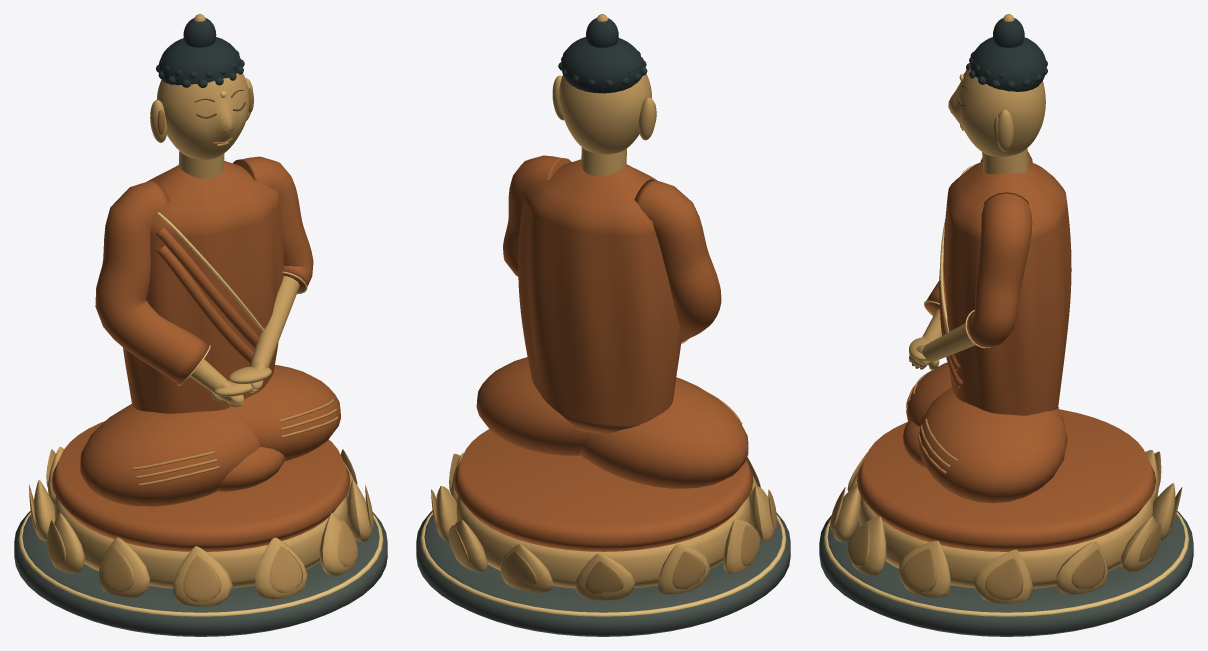
Rendered from buddha.glb.
The picture shows the model from 3 angles, left to right: view 1: azimuth 30°, elevation 25°; view 2: azimuth 150°, elevation 25°; view 3: azimuth 270°, elevation 25°; orthographic projection.
Parts seen in each view (by area): view 1: buddha_SaffronDrapery, buddha_AntiqueGold, buddha_CarvedPlinth, buddha_GoldPetalRelief, buddha_BlueBlackCurls, buddha_RaisedGoldBorders, buddha_DraperyFoldHighlights; view 2: buddha_SaffronDrapery, buddha_AntiqueGold, buddha_CarvedPlinth, buddha_BlueBlackCurls, buddha_GoldPetalRelief, buddha_RaisedGoldBorders; view 3: buddha_SaffronDrapery, buddha_AntiqueGold, buddha_CarvedPlinth, buddha_GoldPetalRelief, buddha_BlueBlackCurls, buddha_RaisedGoldBorders, buddha_DraperyFoldHighlights.
Part boxes in pixels (<box>): buddha_SaffronDrapery: <box>51,156,350,551</box>; buddha_AntiqueGold: <box>33,14,371,606</box>; buddha_CarvedPlinth: <box>14,506,387,636</box>; buddha_GoldPetalRelief: <box>29,449,373,601</box>; buddha_BlueBlackCurls: <box>156,18,244,87</box>; buddha_RaisedGoldBorders: <box>18,91,383,616</box>; buddha_DraperyFoldHighlights: <box>132,399,338,486</box>; buddha_SaffronDrapery: <box>453,155,753,551</box>; buddha_AntiqueGold: <box>436,14,774,600</box>; buddha_CarvedPlinth: <box>416,510,790,636</box>; buddha_BlueBlackCurls: <box>558,18,647,93</box>; buddha_GoldPetalRelief: <box>431,453,776,593</box>; buddha_RaisedGoldBorders: <box>420,339,786,616</box>; buddha_SaffronDrapery: <box>857,151,1155,551</box>; buddha_AntiqueGold: <box>832,14,1175,603</box>; buddha_CarvedPlinth: <box>819,497,1193,636</box>; buddha_GoldPetalRelief: <box>830,451,1182,600</box>; buddha_BlueBlackCurls: <box>966,18,1047,91</box>; buddha_RaisedGoldBorders: <box>824,74,1188,616</box>; buddha_DraperyFoldHighlights: <box>906,373,957,474</box>.
Bounding box in the file's own units: 1.1 × 1.78 × 1.1.
